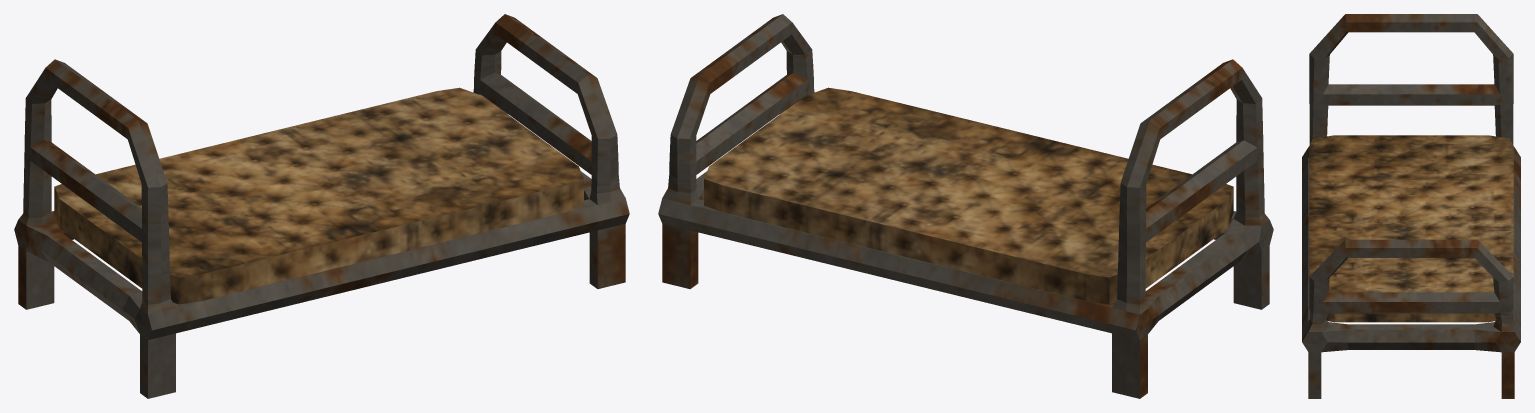
Rendered from Bed_02.fbx.
3 views of the same model, side by side, from view 1: azimuth 30°, elevation 25°; view 2: azimuth 150°, elevation 25°; view 3: azimuth 270°, elevation 25° (orthographic). The views are drawn at different scales.
Parts seen in each view (by area): view 1: Matress, Bed_02; view 2: Matress, Bed_02; view 3: Matress, Bed_02.
Boxes of the visible parts, x1,y1,x2,y2 form: Matress: [54, 87, 583, 304]; Bed_02: [14, 14, 629, 398]; Matress: [704, 87, 1233, 304]; Bed_02: [658, 14, 1273, 398]; Matress: [1309, 135, 1513, 322]; Bed_02: [1302, 14, 1520, 398].
Bounding box in the file's own units: 221 × 113 × 110.
2 materials, 2 textured.
